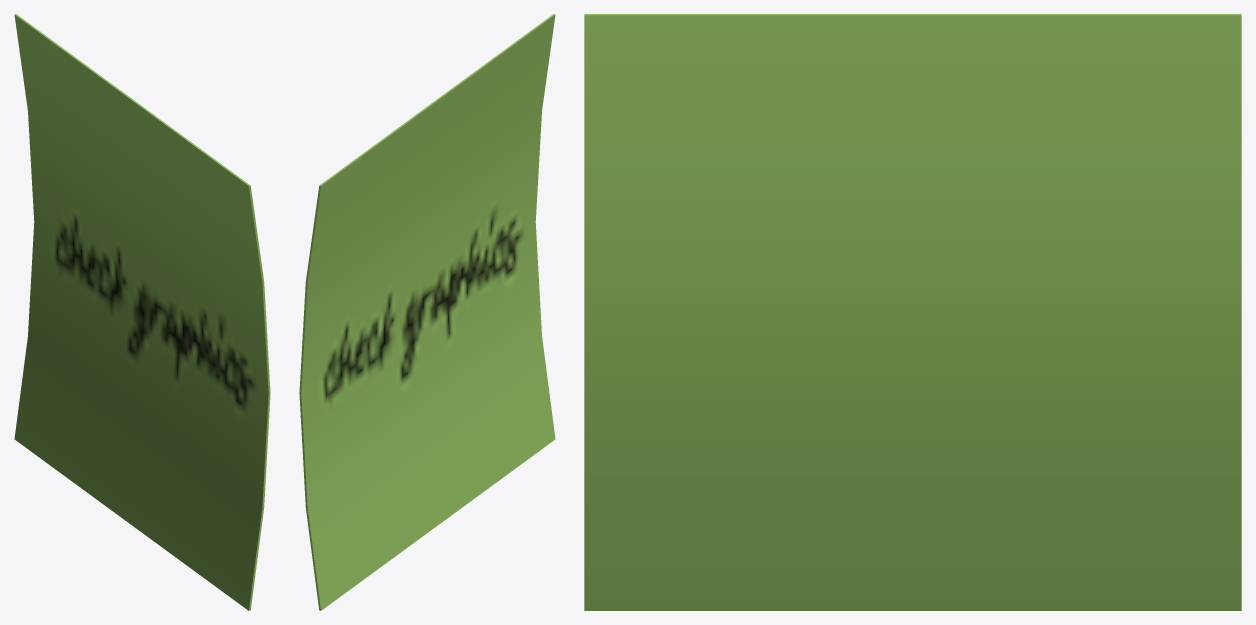
The model's file is Sticker26.fbx.
3 views of the same model, side by side, from view 1: azimuth 30°, elevation 25°; view 2: azimuth 150°, elevation 25°; view 3: azimuth 270°, elevation 25° (orthographic). The views are drawn at different scales.
Visible parts, largest first — view 1: Sticker26; view 2: Sticker26; view 3: Sticker26.
Part boxes in pixels (bbox=[...]): Sticker26: bbox=[14, 14, 270, 610]; Sticker26: bbox=[299, 14, 555, 610]; Sticker26: bbox=[584, 14, 1241, 610].
Bounding box in the file's own units: 0.004 × 0.075 × 0.075.
